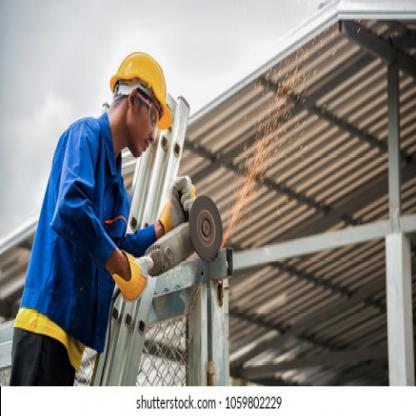with_gloves: (158, 175, 198, 232)
